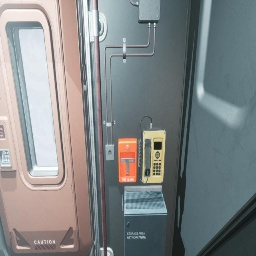EmergencyPhone ,: (138, 115, 166, 184)
FireAlarm ,: (118, 138, 137, 182)
